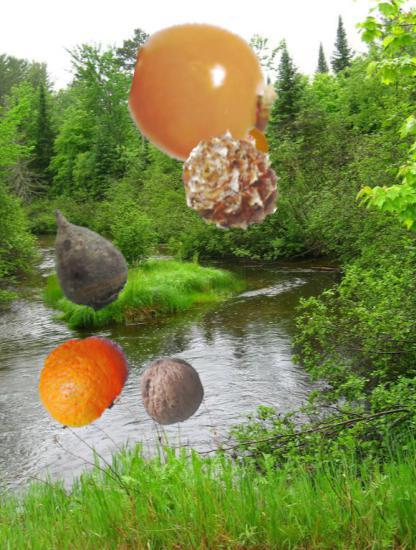Beetroot: (27, 202, 140, 315)
Mandarine: (32, 329, 132, 429)
Physalis: (131, 21, 279, 169), (197, 117, 270, 190)
Pineapple: (181, 131, 285, 235)
Walnut: (138, 357, 206, 425)
